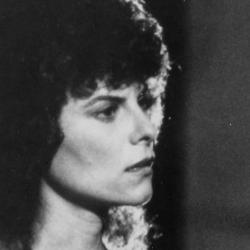face: (2, 3, 176, 238)
